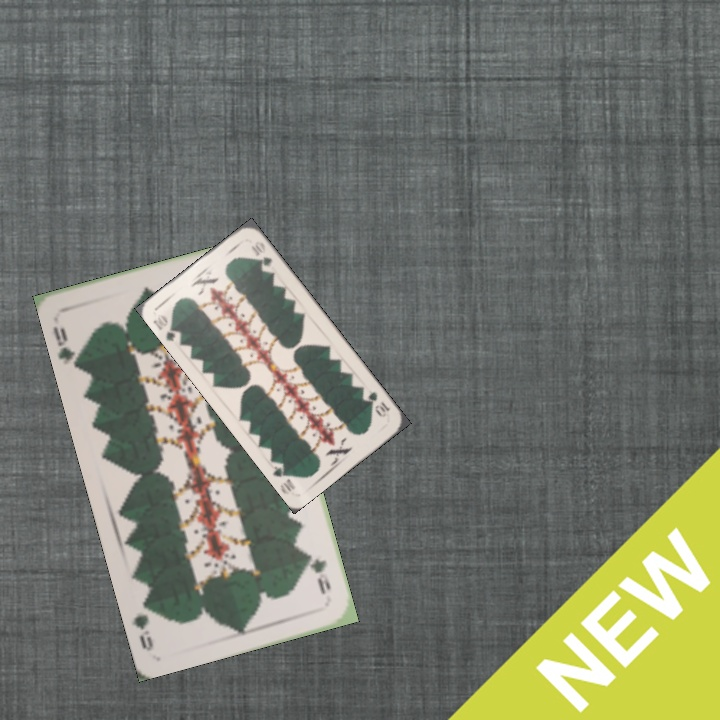G10: (149, 310, 184, 344), (362, 387, 393, 420)
G9: (49, 323, 84, 371), (303, 547, 333, 598)
